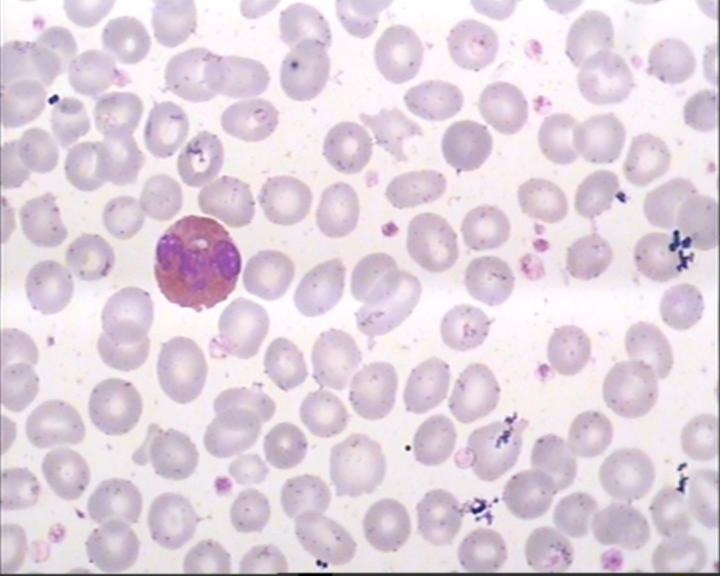eosi: (150, 213, 247, 314)
